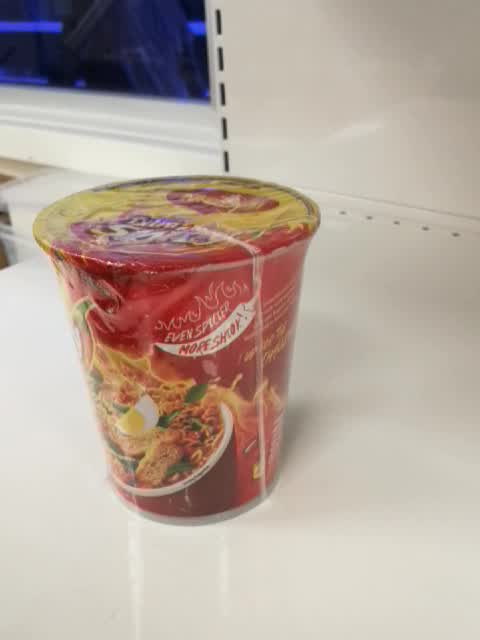maggi: (30, 174, 323, 528)
